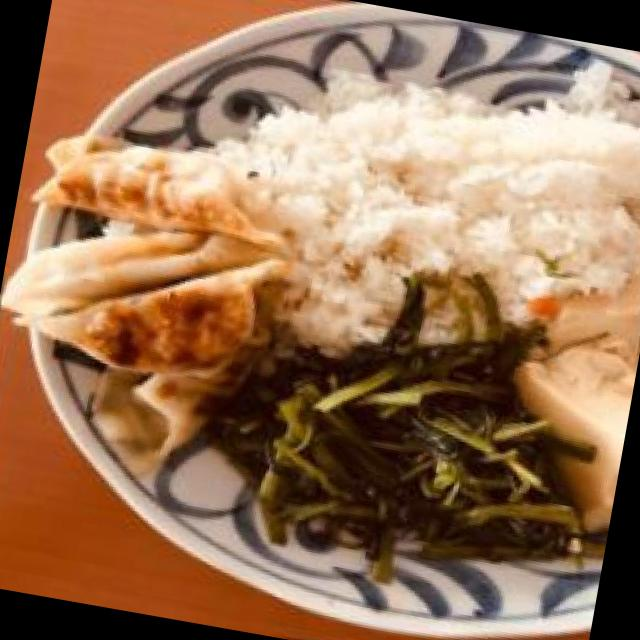fried_dumplings: (21, 124, 264, 372)
rice: (260, 63, 640, 388)
water_spinach: (275, 328, 533, 560)
